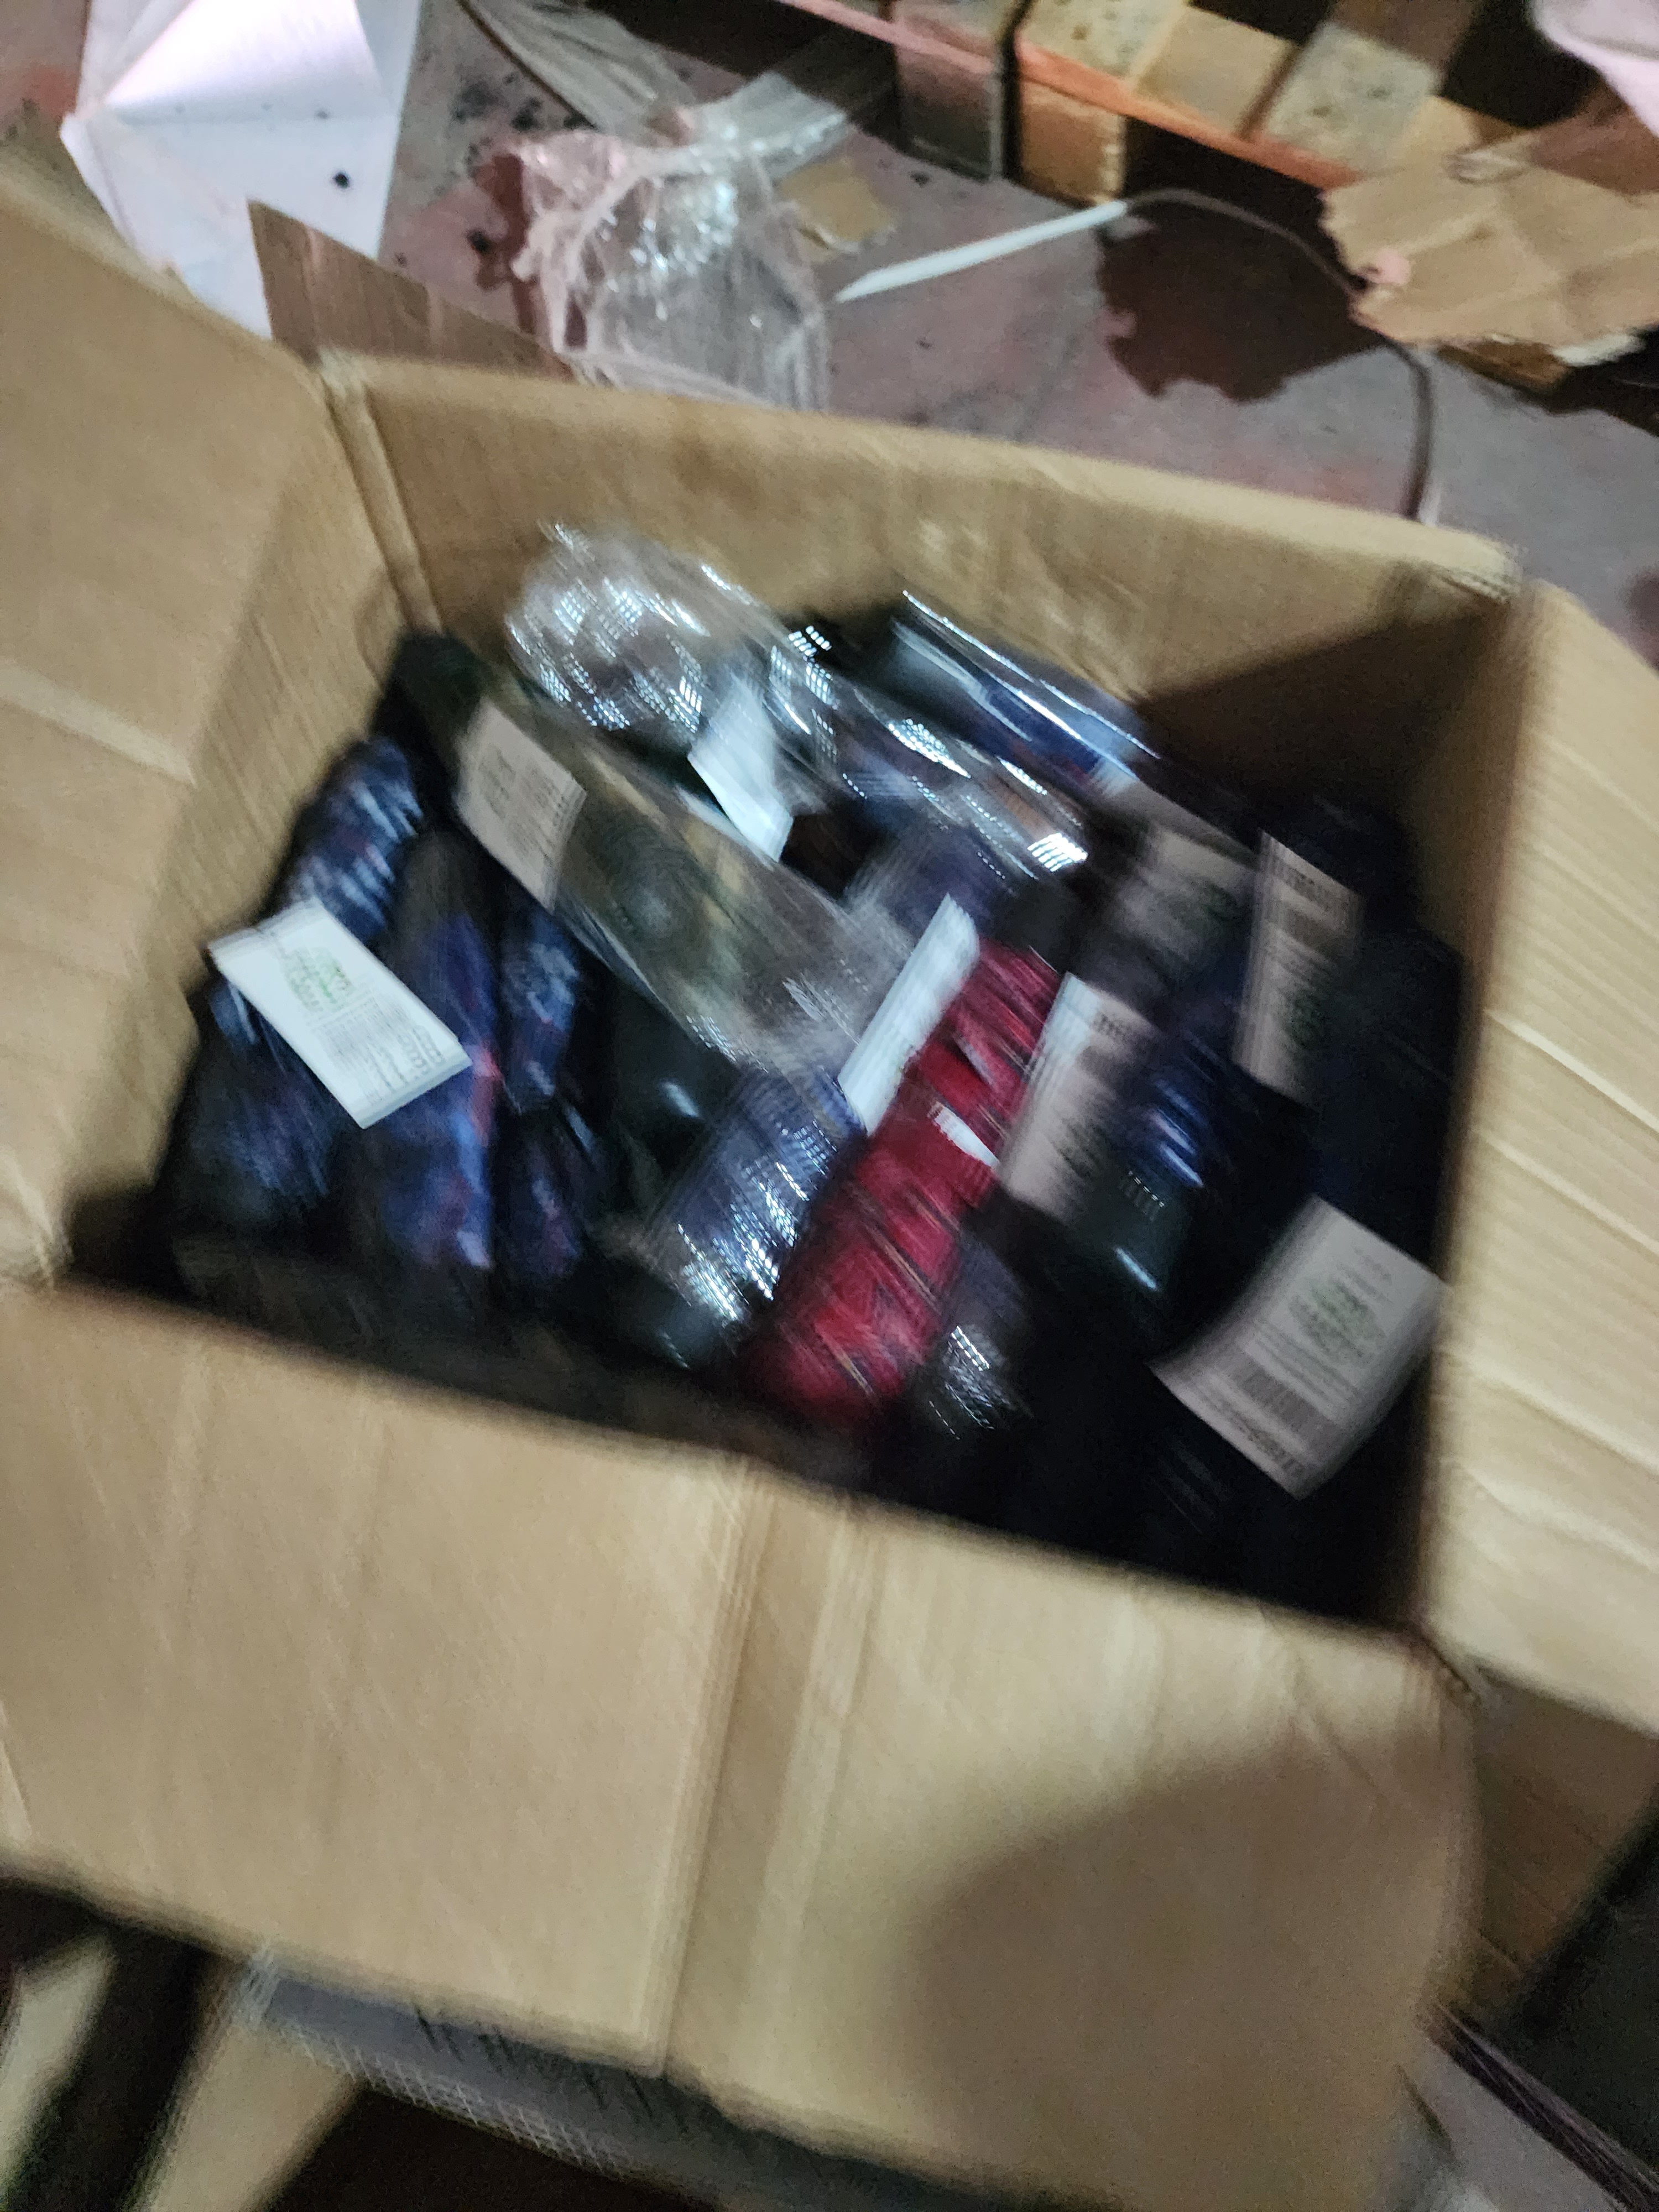box: (179, 315, 1459, 1730)
